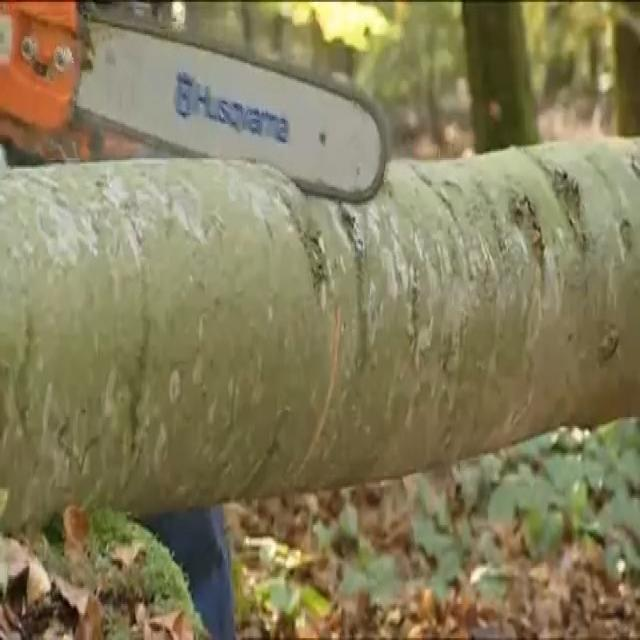Chainsaw: (0, 0, 394, 219)
